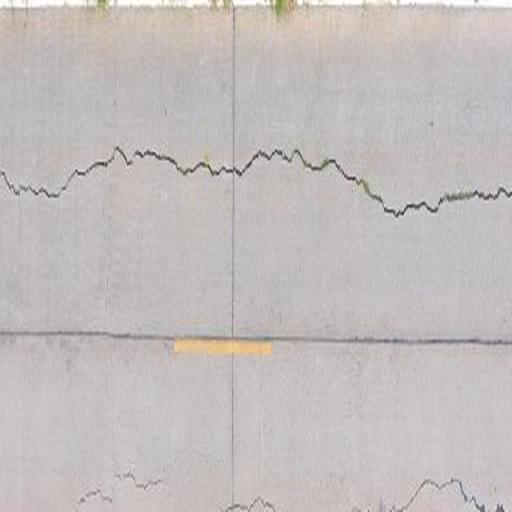minor crack: (96, 12, 149, 502), (261, 145, 356, 181), (384, 199, 436, 218), (0, 171, 27, 197), (113, 144, 141, 166), (203, 161, 229, 176), (34, 185, 63, 198)
moderate crack: (208, 361, 285, 511), (225, 7, 235, 493), (73, 469, 163, 505), (130, 146, 200, 171), (112, 0, 200, 19), (219, 495, 277, 512), (440, 188, 482, 201), (433, 476, 462, 490), (488, 489, 508, 509), (469, 495, 489, 512), (208, 0, 232, 13), (140, 476, 163, 487), (358, 0, 369, 18), (378, 496, 385, 512), (74, 168, 87, 176), (494, 505, 504, 512)
severe crack: (207, 287, 512, 341), (377, 475, 495, 511), (387, 328, 406, 507), (185, 332, 305, 342), (357, 176, 377, 198)
